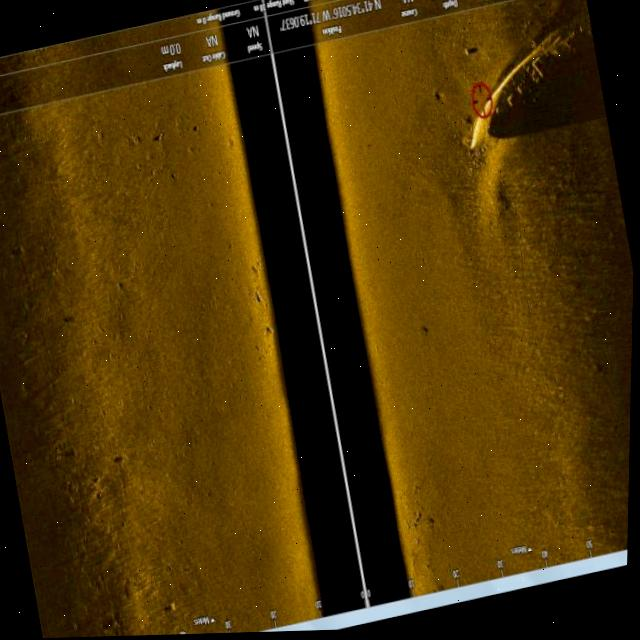shipwreck: (448, 22, 603, 159)
